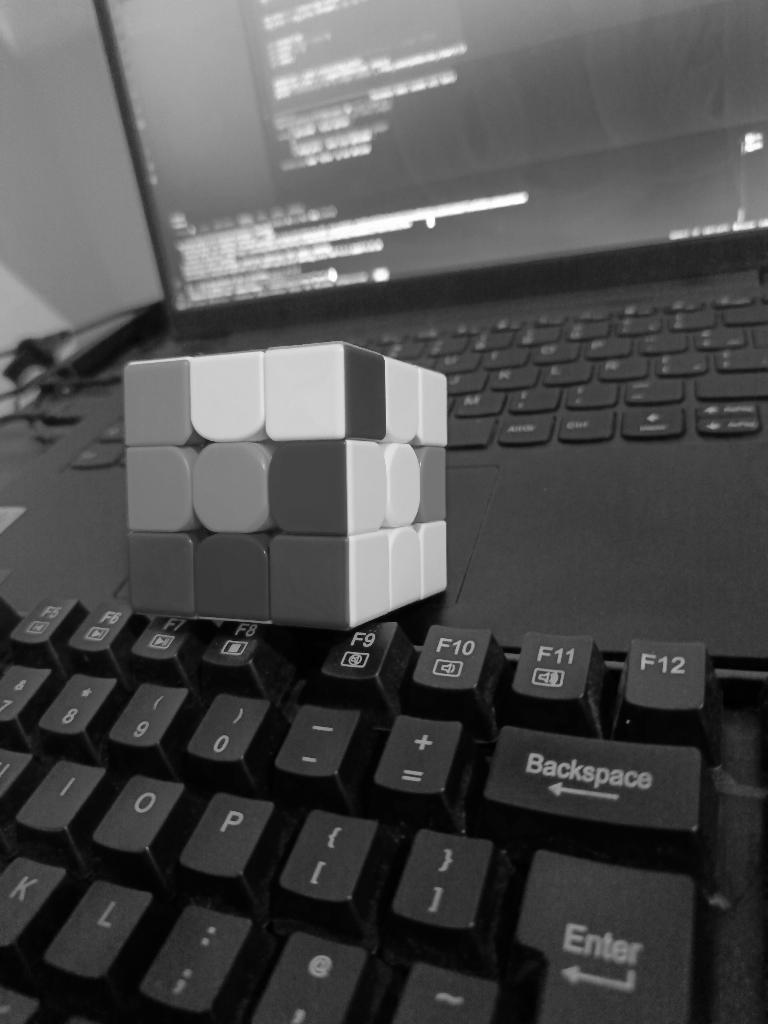rubik: (120, 340, 450, 630)
